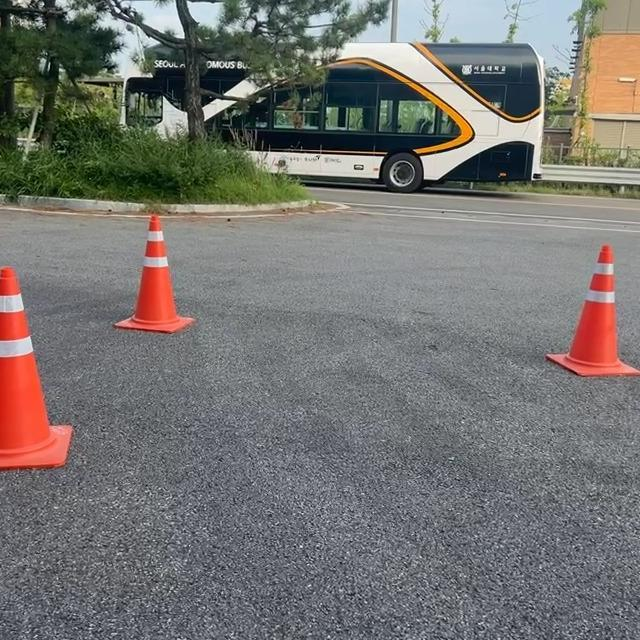fallen_object: (0, 244, 111, 566), (517, 247, 640, 416), (117, 207, 219, 360)
